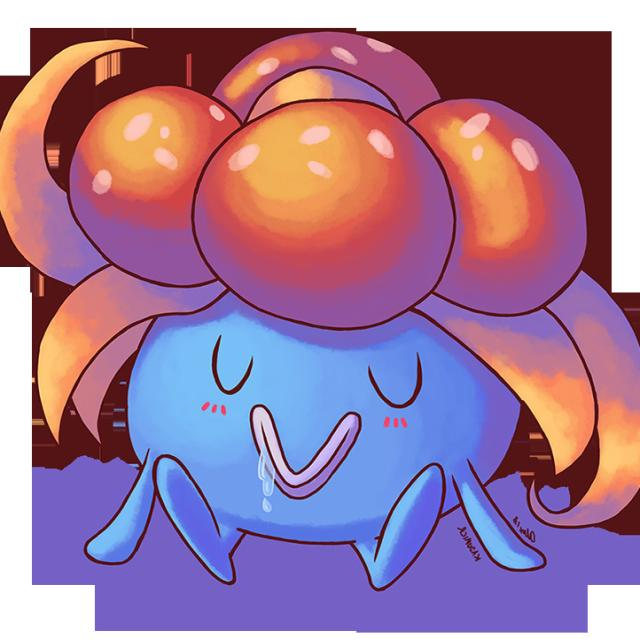Gloom: (56, 32, 571, 581)
